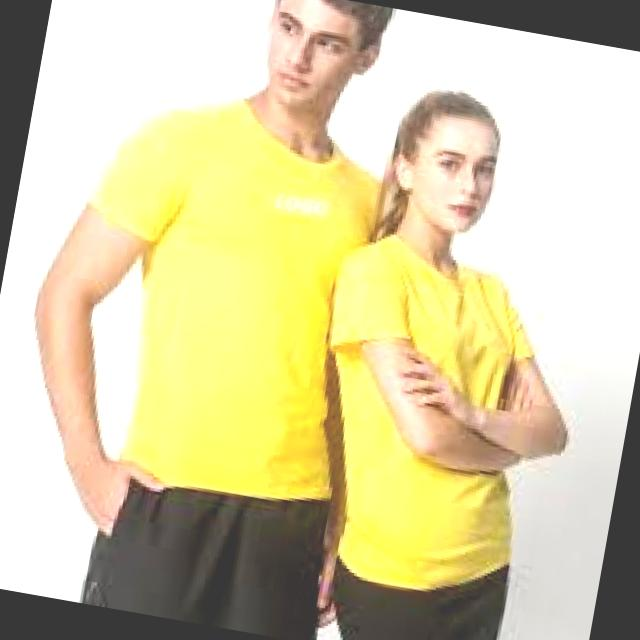face: (267, 0, 379, 115), (395, 116, 499, 234)
lower-wear: (83, 482, 329, 639), (333, 562, 508, 639)
top-wear: (92, 101, 378, 500), (332, 235, 533, 590)
